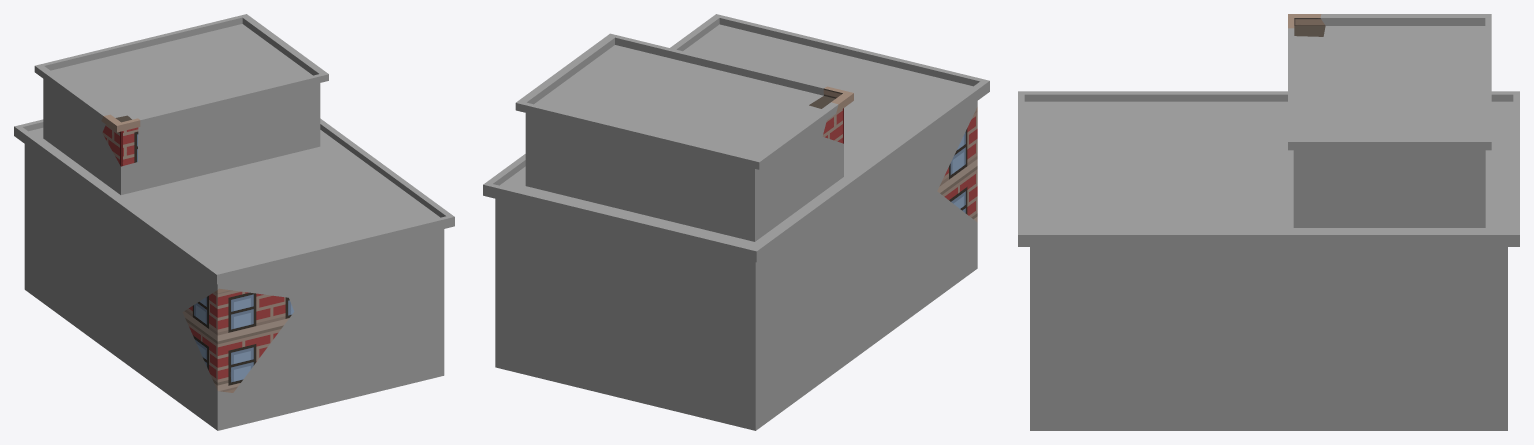
The model's file is Building2.fbx.
3 renders of one model, left to right at view 1: azimuth 30°, elevation 25°; view 2: azimuth 150°, elevation 25°; view 3: azimuth 270°, elevation 25°, orthographic. The views are drawn at different scales.
Parts seen in each view (by area): view 1: Lower, Upper, Fragment, Fragment10, Fragment6, Fragment1, Fragment5, Fragment4, Fragment9, Fragment8; view 2: Lower, Upper, Fragment4, Fragment6, Fragment9, Fragment3, Fragment10, Fragment, Fragment1, Fragment8; view 3: Lower, Upper, Fragment7, Fragment3, Fragment1, Fragment5, Fragment10, Fragment9, Fragment8.
Boxes of the visible parts, x1=… form: Lower: x1=14, y1=118, x2=447, y2=430; Upper: x1=34, y1=14, x2=320, y2=194; Fragment: x1=182, y1=288, x2=294, y2=392; Fragment10: x1=242, y1=63, x2=328, y2=139; Fragment6: x1=88, y1=213, x2=156, y2=346; Fragment1: x1=386, y1=202, x2=454, y2=316; Fragment5: x1=198, y1=185, x2=305, y2=227; Fragment4: x1=24, y1=148, x2=62, y2=262; Fragment9: x1=124, y1=24, x2=212, y2=58; Fragment8: x1=101, y1=114, x2=140, y2=166; Lower: x1=483, y1=20, x2=989, y2=430; Upper: x1=515, y1=41, x2=843, y2=241; Fragment4: x1=683, y1=262, x2=799, y2=391; Fragment6: x1=828, y1=201, x2=906, y2=312; Fragment9: x1=565, y1=112, x2=671, y2=174; Fragment3: x1=495, y1=216, x2=555, y2=336; Fragment10: x1=600, y1=33, x2=705, y2=76; Fragment: x1=937, y1=107, x2=977, y2=222; Fragment1: x1=692, y1=14, x2=758, y2=48; Fragment8: x1=809, y1=86, x2=853, y2=143; Lower: x1=1018, y1=91, x2=1519, y2=430; Upper: x1=1288, y1=14, x2=1491, y2=227; Fragment7: x1=1225, y1=251, x2=1390, y2=391; Fragment3: x1=1428, y1=247, x2=1507, y2=393; Fragment1: x1=1018, y1=212, x2=1107, y2=361; Fragment5: x1=1111, y1=128, x2=1257, y2=192; Fragment10: x1=1288, y1=92, x2=1369, y2=199; Fragment9: x1=1436, y1=68, x2=1491, y2=121; Fragment8: x1=1288, y1=14, x2=1325, y2=36.
Bounding box in the file's own units: 4.94 × 4.52 × 7.29.
